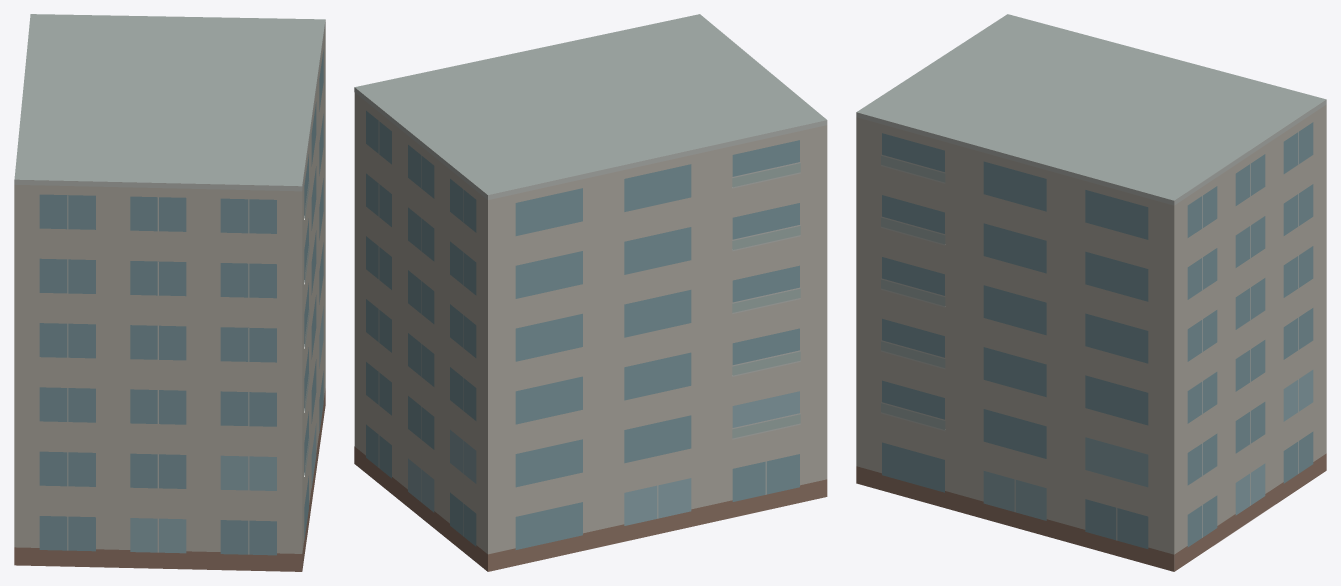
Rendered from survey-upis-32980236.glb.
3 renders of one model, left to right at view 1: azimuth 30°, elevation 25°; view 2: azimuth 150°, elevation 25°; view 3: azimuth 270°, elevation 25°, orthographic. The views are drawn at different scales.
Visible parts, largest first — view 1: survey-upis-32980236.tmp; view 2: survey-upis-32980236.tmp; view 3: survey-upis-32980236.tmp.
Boxes of the visible parts, <box> form: survey-upis-32980236.tmp: <box>14,14,325,571</box>; survey-upis-32980236.tmp: <box>354,14,827,571</box>; survey-upis-32980236.tmp: <box>856,14,1326,571</box>.
Bounding box in the file's own units: 19.86 × 18.4 × 21.14.
